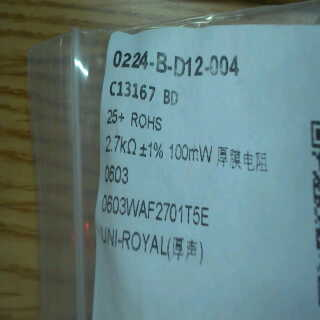2.7kR: (100, 131, 136, 159)
